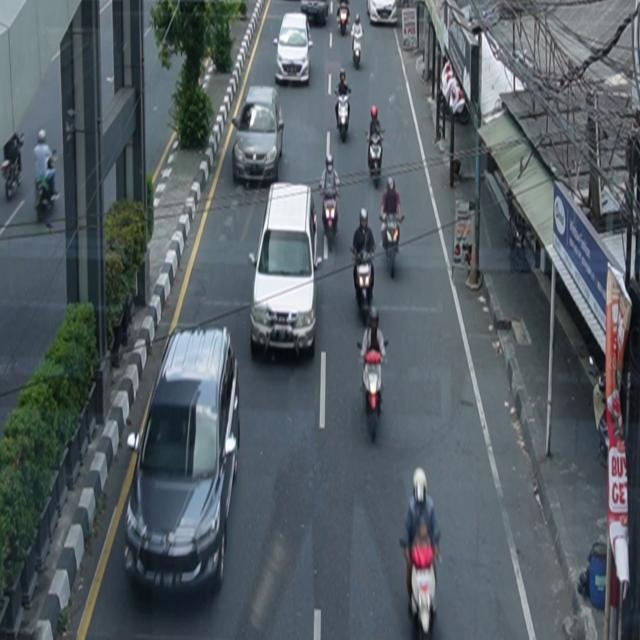car: (125, 326, 241, 599), (232, 85, 285, 186), (274, 13, 314, 86), (367, 1, 398, 26)
truck: (249, 181, 328, 362)
